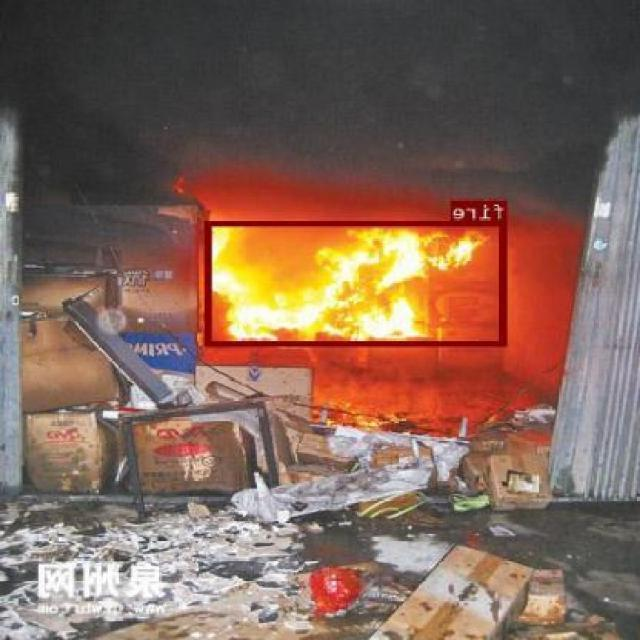Fire: (188, 228, 498, 360)
Smoke: (17, 0, 640, 217)
